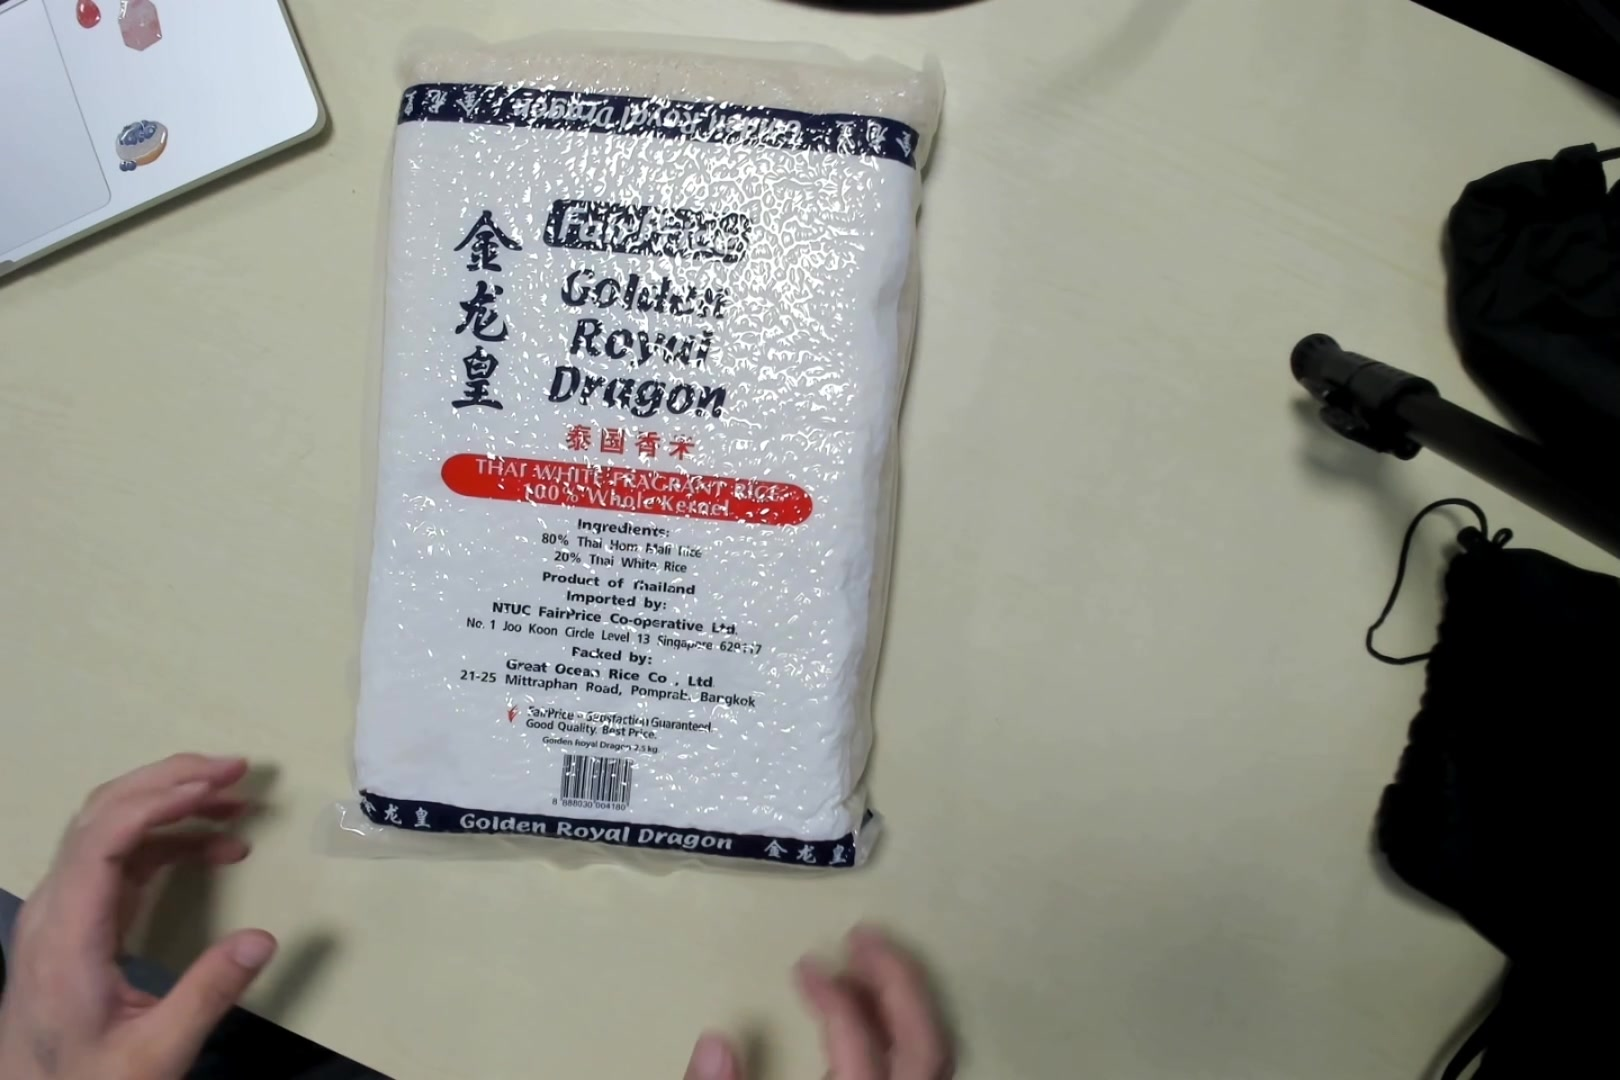Rice(White)_2000-2999g_NonHalal_NonHealthy: (365, 40, 915, 880)
